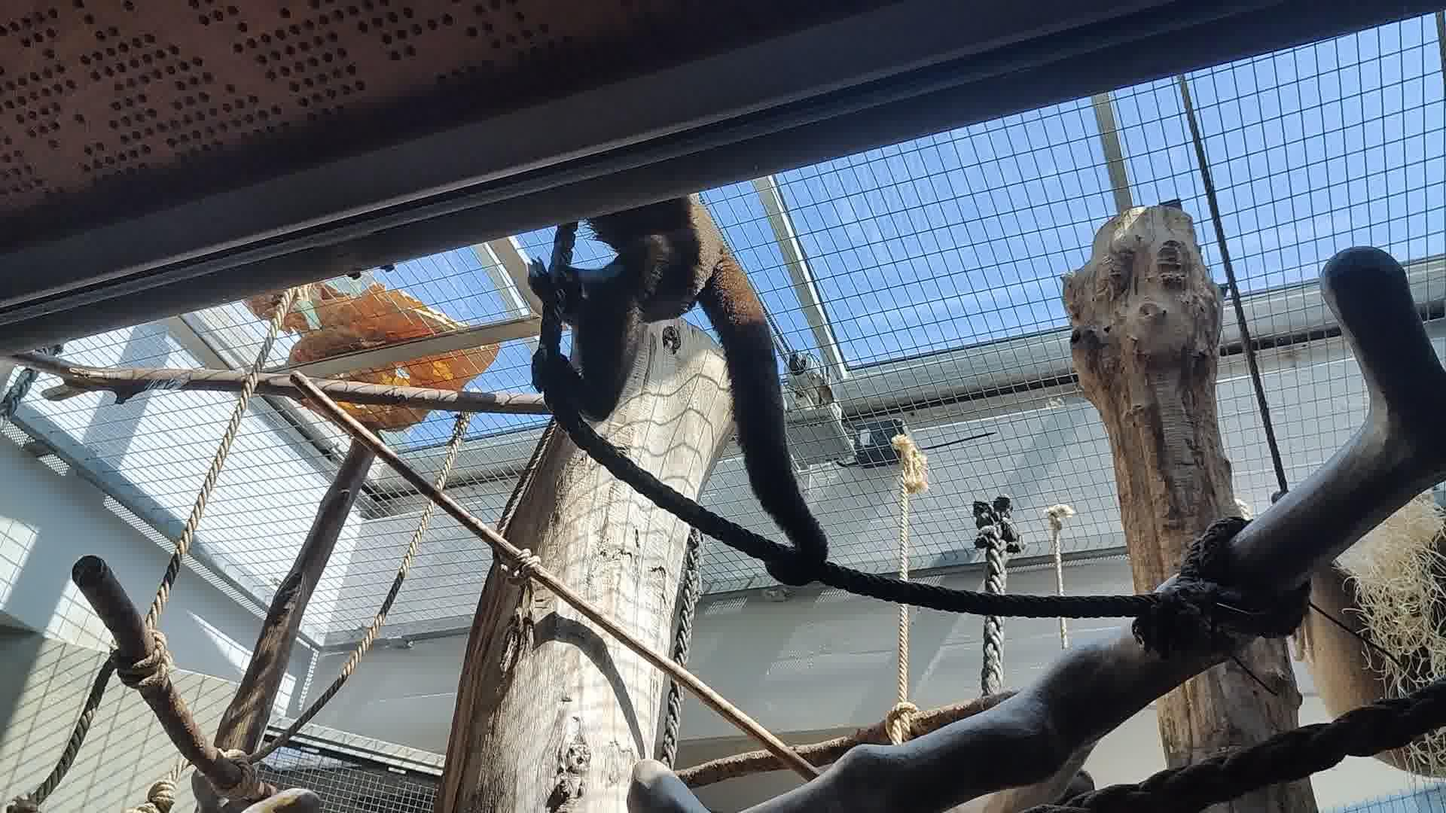boar: (527, 193, 829, 587)
